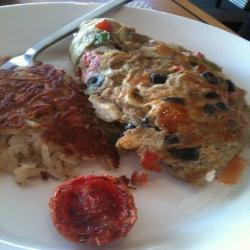omelette: (73, 15, 250, 191)
